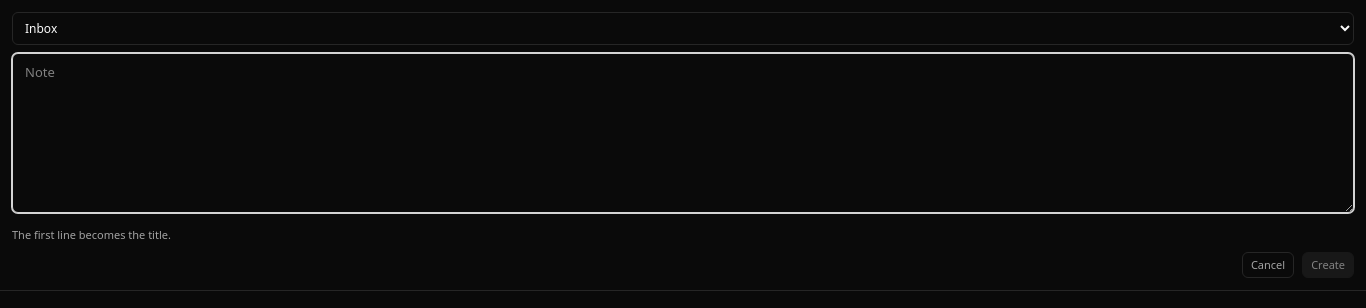
Test: NoteComposer › keeps the draft and shows the daemon's own words when the create fails
Step 1. Type "Book the flights" into the text box labelled "Note" → point(683, 133), box top-left (12, 53), bottom-right (1354, 213)
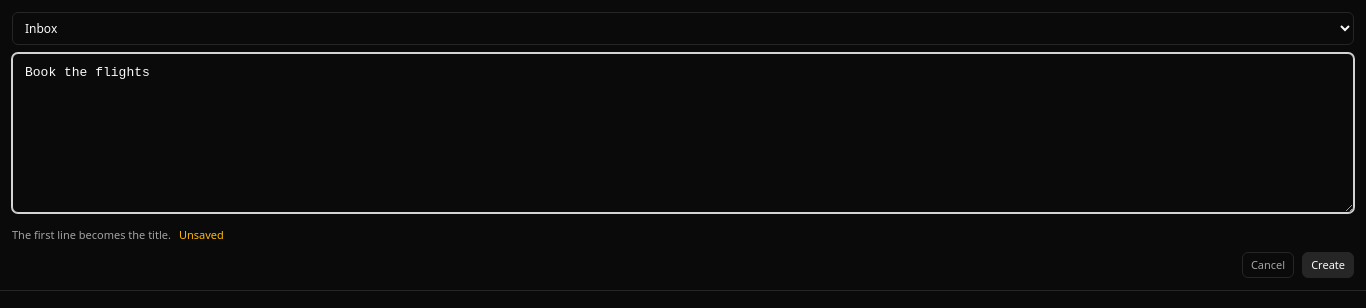
Step 2. Click the button "Create" → point(1328, 265), box top-left (1302, 252), bottom-right (1354, 278)
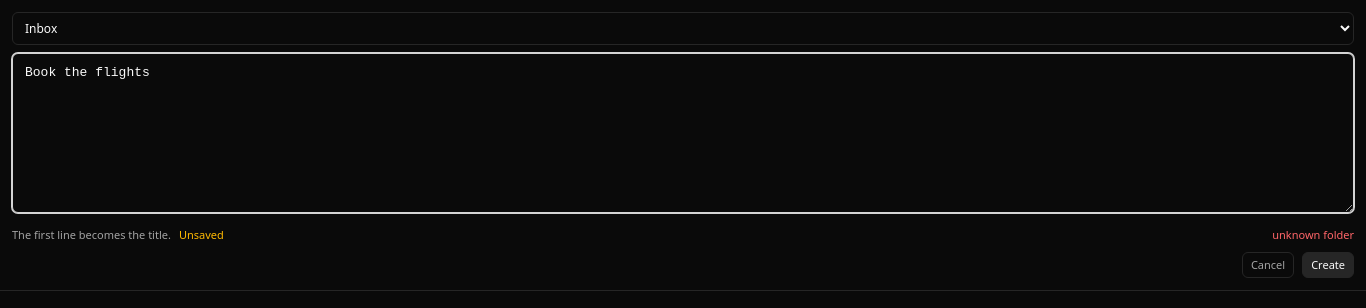
Check: the message reads "unknown folder", box top-left (1272, 227), bottom-right (1354, 242)
